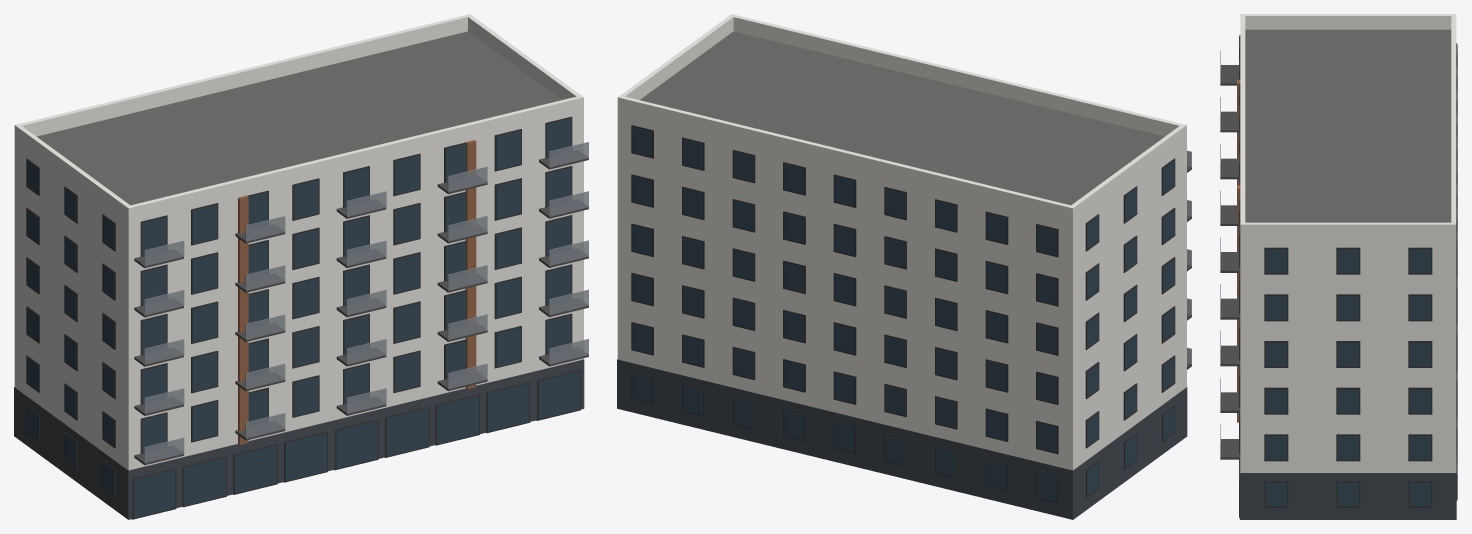
The model's file is blok.glb.
3 views of the same model, side by side, from view 1: azimuth 30°, elevation 25°; view 2: azimuth 150°, elevation 25°; view 3: azimuth 270°, elevation 25° (orthographic). The views are drawn at different scales.
Visible parts, largest first — view 1: Budynek wielorodzinny; view 2: Budynek wielorodzinny; view 3: Budynek wielorodzinny.
Boxes of the visible parts, left/top/right/bottom form: Budynek wielorodzinny: left=14, top=14, right=588, bottom=519; Budynek wielorodzinny: left=617, top=14, right=1191, bottom=519; Budynek wielorodzinny: left=1220, top=14, right=1457, bottom=519.
Size of the model in its own units: 30.16 by 19.63 by 14.29.
